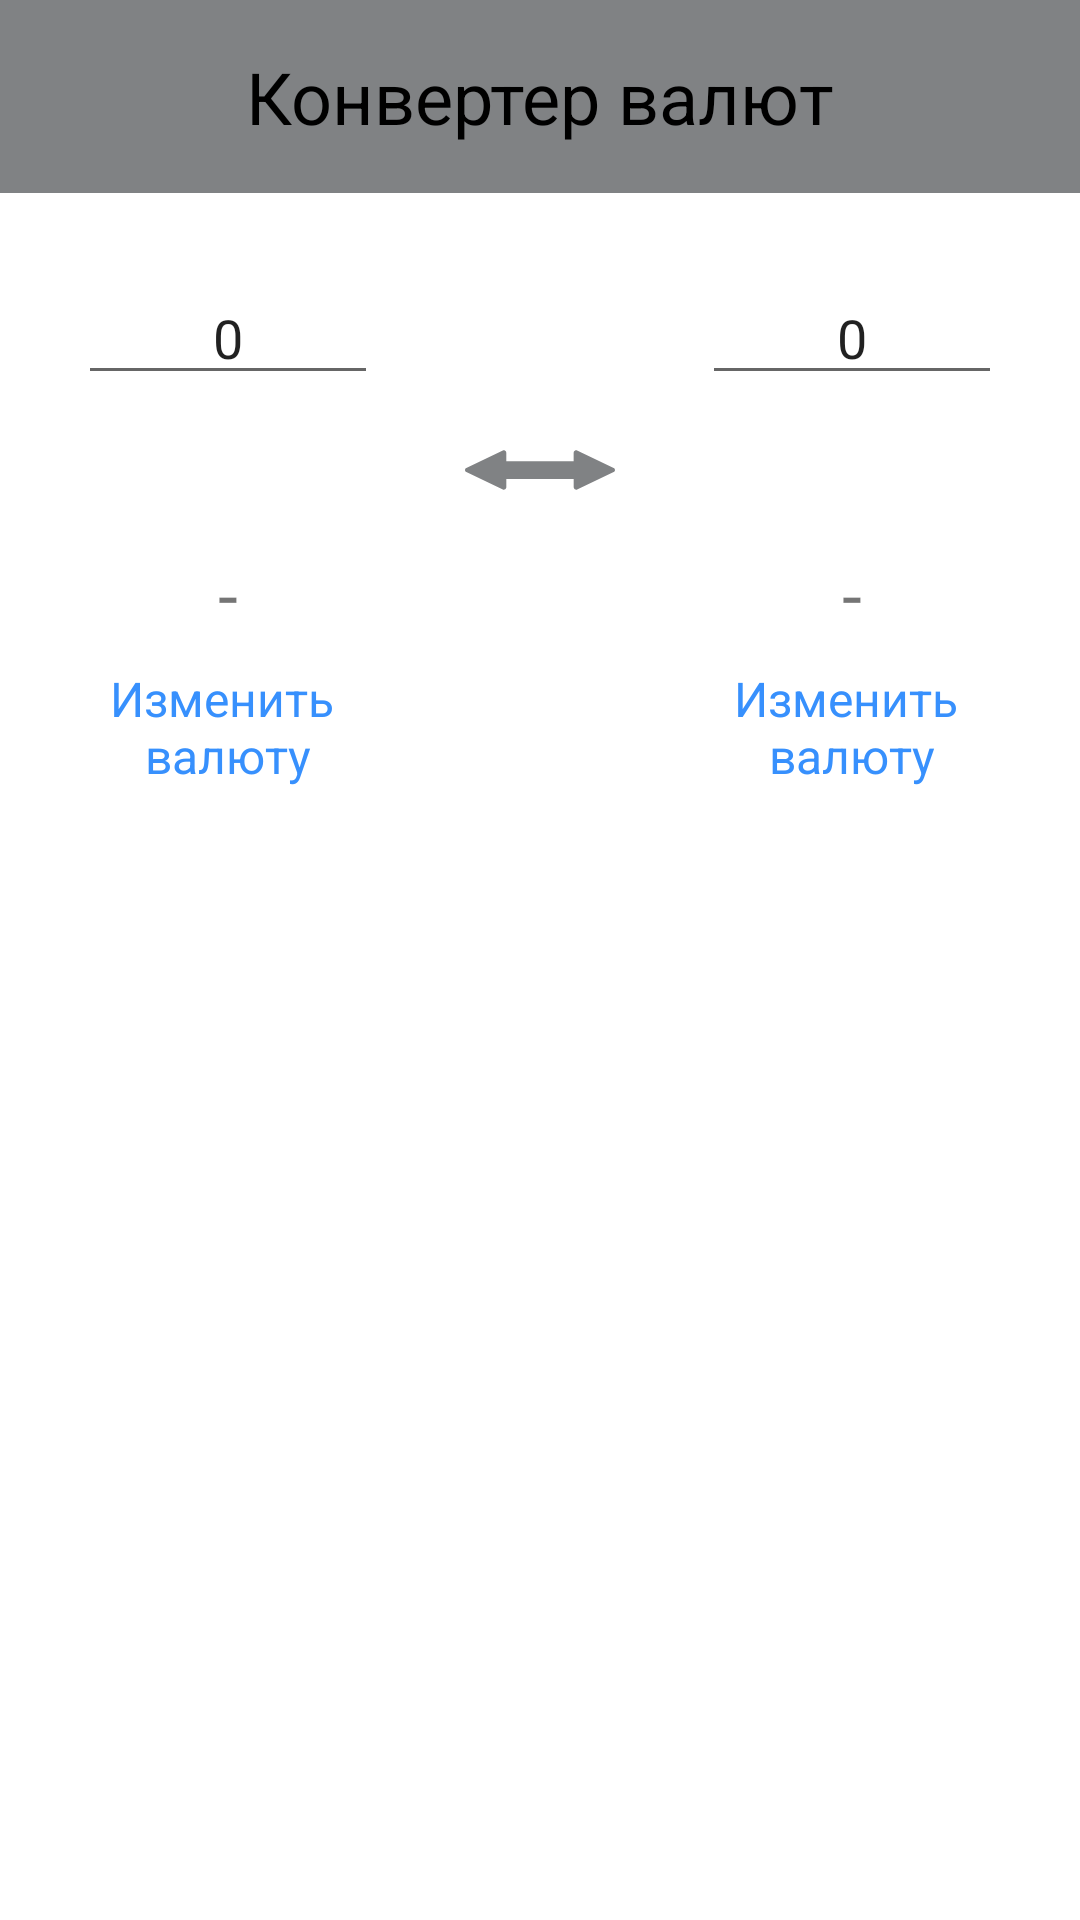

Icons on this 1080 x 1920 Android screen, each with the point to tap as point (x, y):
left and right arrow: point (540, 470)
